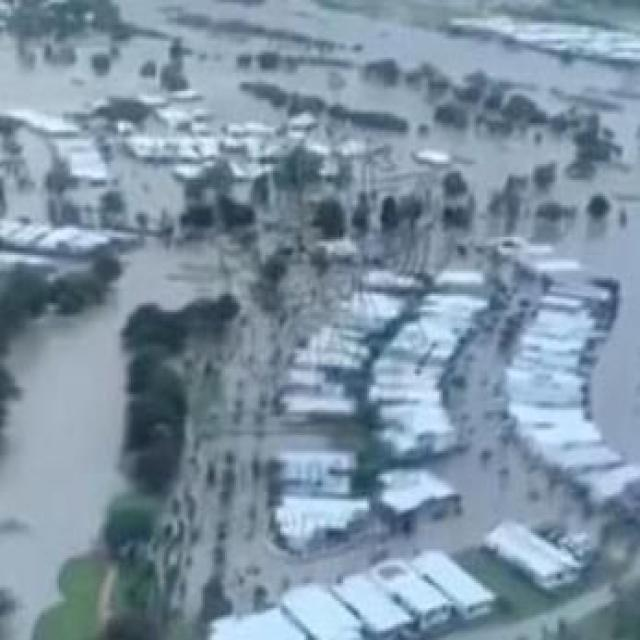flooded_areas: (218, 221, 638, 638), (0, 73, 478, 216)
